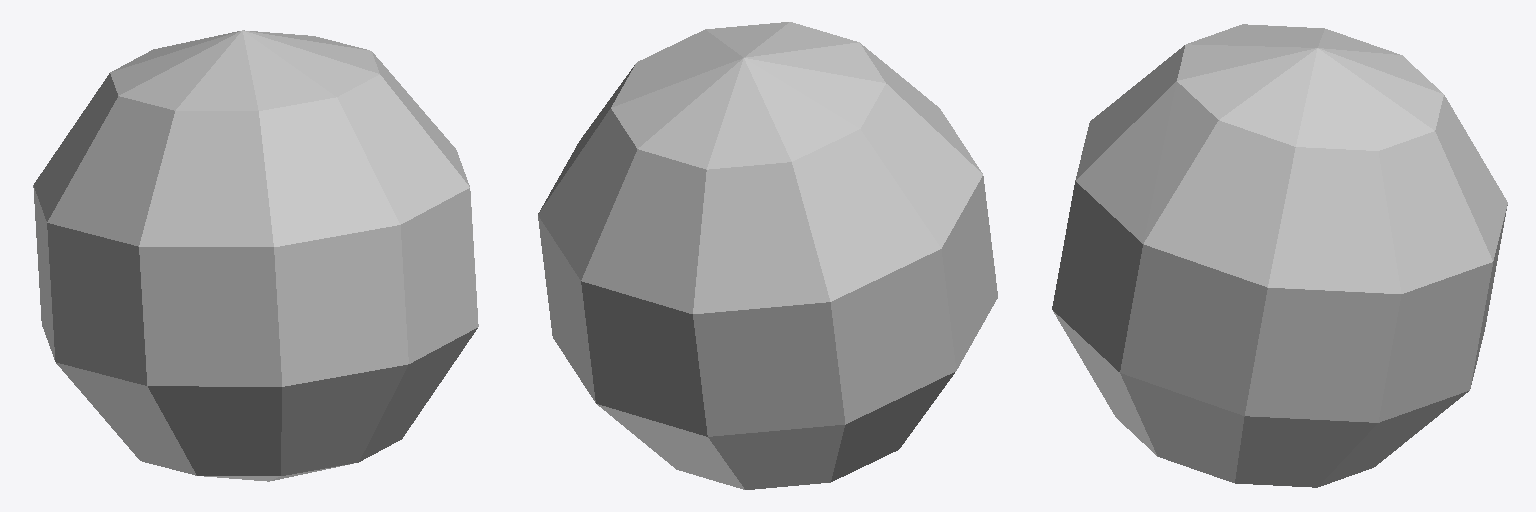
The model's file is Pokeball1.obj.
The picture shows the model from 3 angles: view 1: azimuth 30°, elevation 25°; view 2: azimuth 150°, elevation 25°; view 3: azimuth 270°, elevation 25°; orthographic projection.
Parts seen in each view (by area): view 1: Pokeball_Obj; view 2: Pokeball_Obj; view 3: Pokeball_Obj.
Part boxes in pixels (bbox=[...]): Pokeball_Obj: bbox=[33, 30, 478, 481]; Pokeball_Obj: bbox=[538, 22, 997, 489]; Pokeball_Obj: bbox=[1052, 24, 1507, 487].
Size of the model in its own units: 764392 by 790956 by 776109.